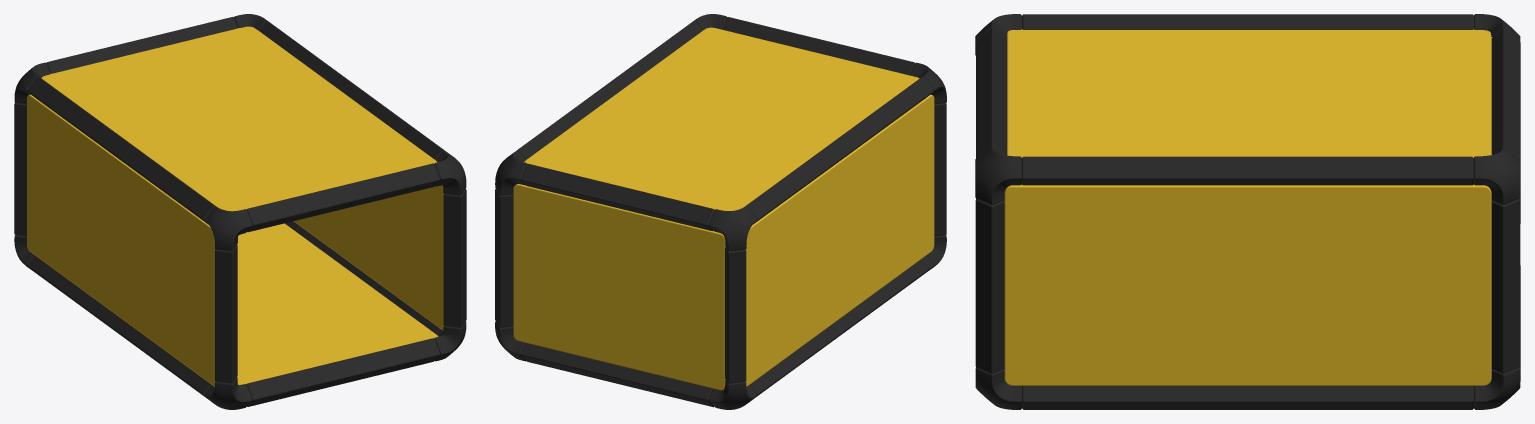
3 renders of one model, left to right at view 1: azimuth 30°, elevation 25°; view 2: azimuth 150°, elevation 25°; view 3: azimuth 270°, elevation 25°, orthographic. The views are drawn at different scales.
Visible parts, largest first — view 1: 229x374x154; view 2: 229x374x154; view 3: 229x374x154.
Boxes of the visible parts, bbox=[...] form: 229x374x154: bbox=[14, 14, 466, 409]; 229x374x154: bbox=[495, 14, 946, 409]; 229x374x154: bbox=[975, 14, 1520, 409].
Bounding box in the file's own units: 0.3067 × 0.2316 × 0.4513.
